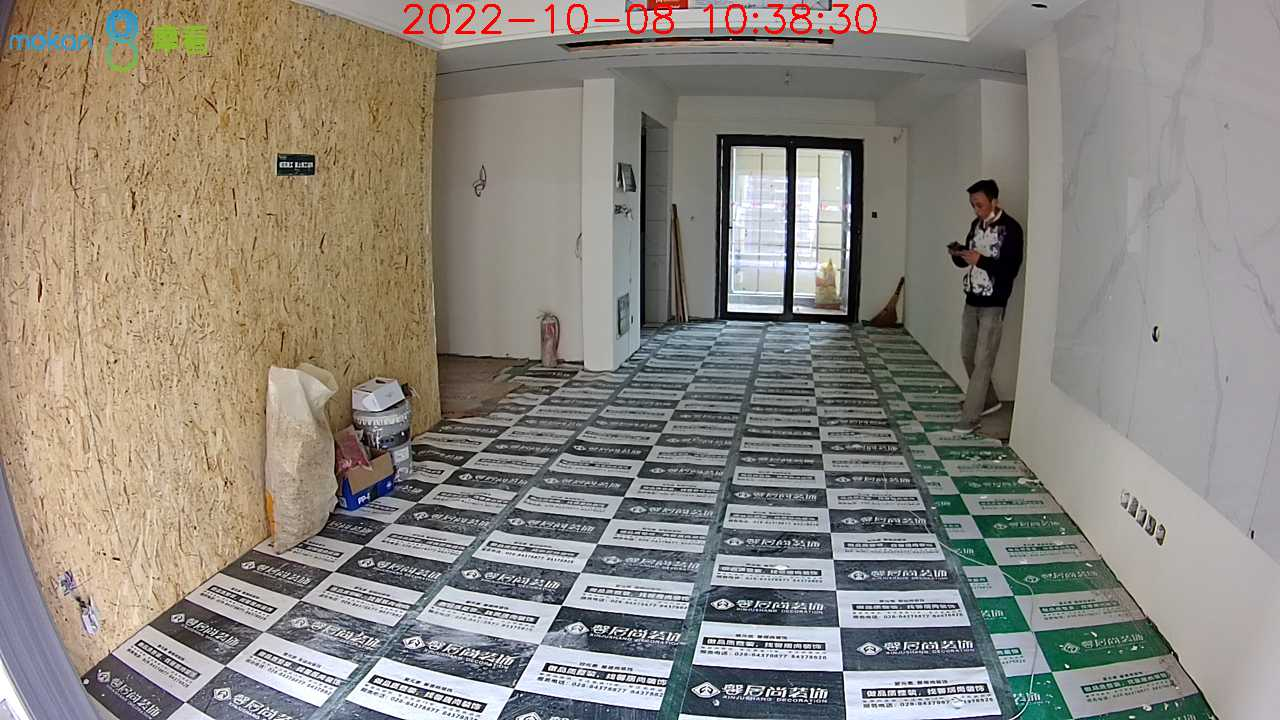people: (948, 179, 1027, 435)
window: (726, 140, 856, 317)
